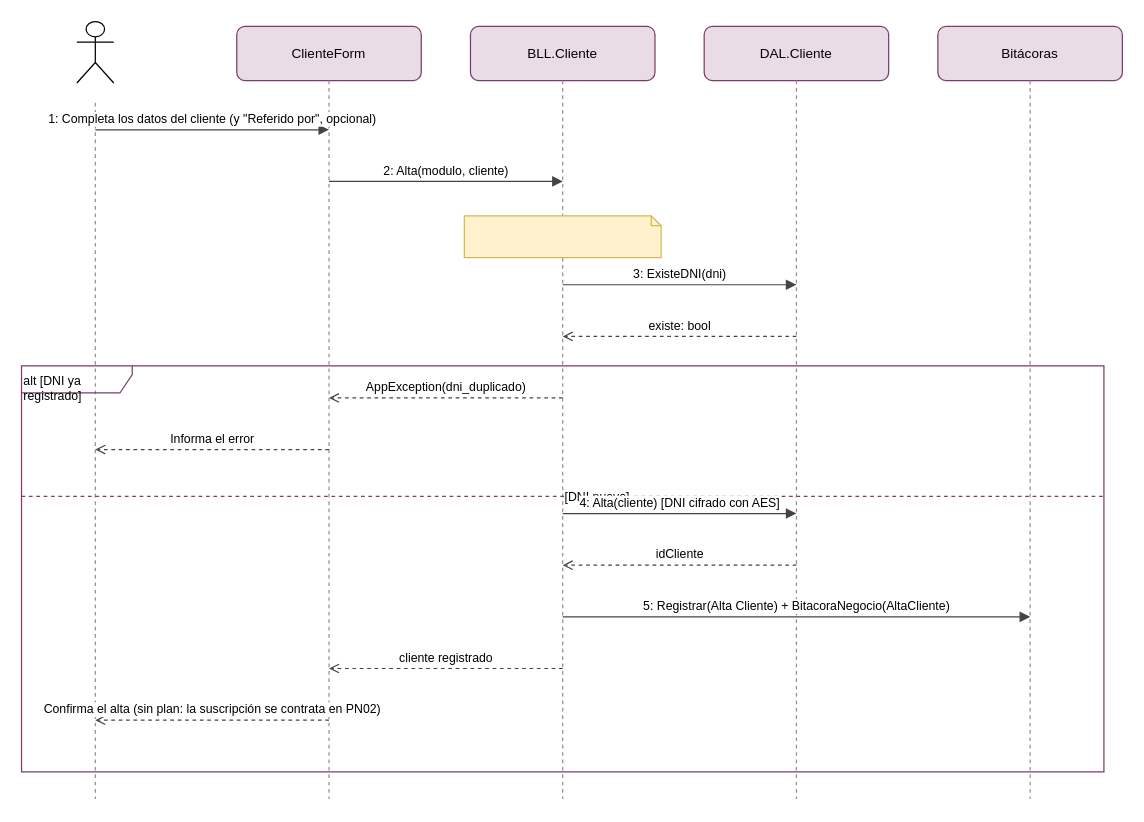
Some shapes in this 1144 by 822 pixel diagram are drawn without their labels. Here are the shapes that lost their labels. From the top down, the box of each, then its label:
(76, 20, 114, 83): Vendedor
(463, 215, 661, 258): PermisosAccion.Exigir(ClientesEditar) · Validar(cliente)
